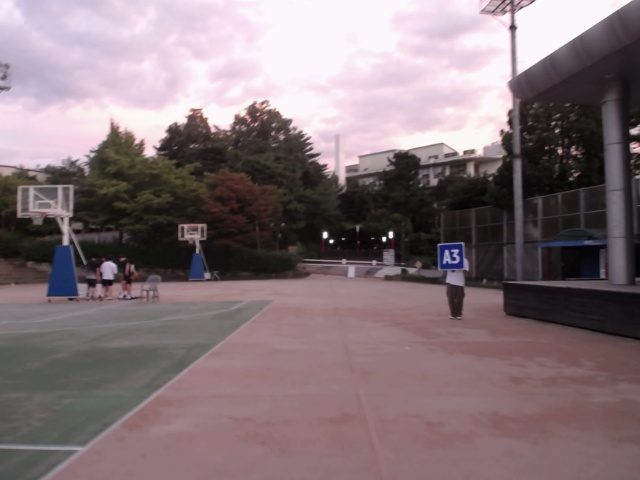delivery_a3: (437, 243, 464, 270)
